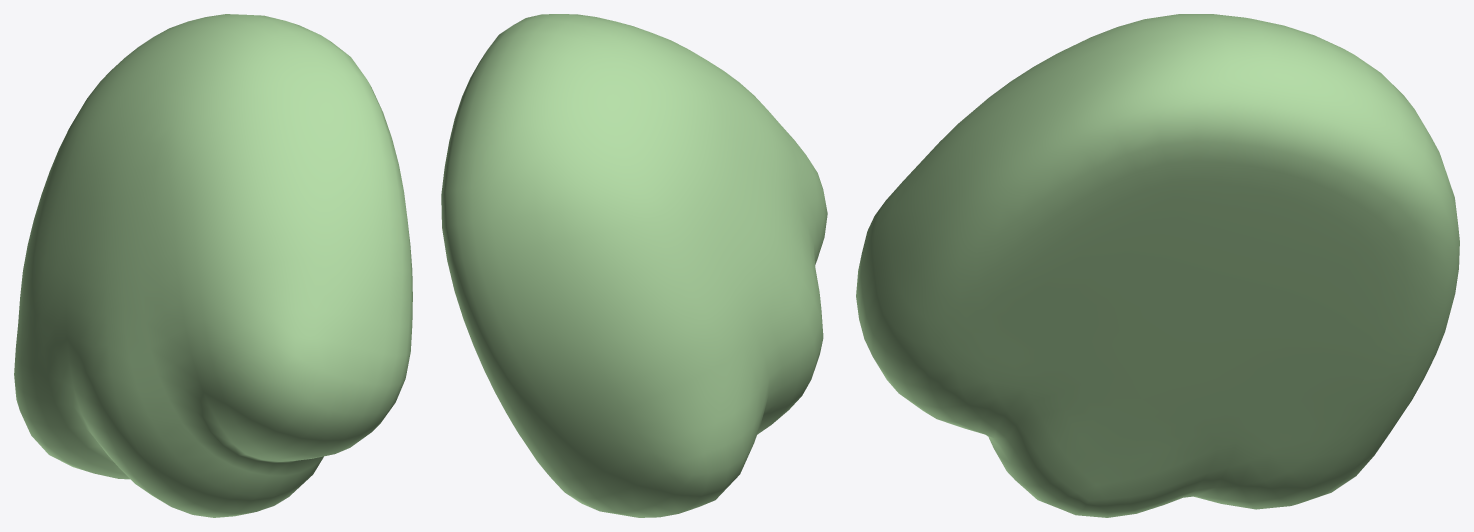
Rendered from SM_ FE_Char_Dog_Right_Hand.fbx.
3 renders of one model, left to right at view 1: azimuth 30°, elevation 25°; view 2: azimuth 150°, elevation 25°; view 3: azimuth 270°, elevation 25°, orthographic. The views are drawn at different scales.
Parts seen in each view (by area): view 1: left hand; view 2: left hand; view 3: left hand.
Part boxes in pixels (bbox=[...]): left hand: bbox=[14, 14, 412, 517]; left hand: bbox=[441, 14, 827, 517]; left hand: bbox=[856, 14, 1459, 517].
Bounding box in the file's own units: 20.52 × 29.71 × 30.99.
